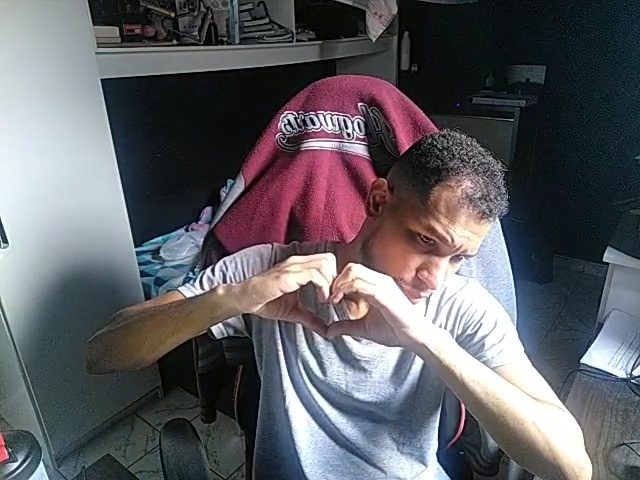eu_te_amo: (257, 253, 404, 351)
